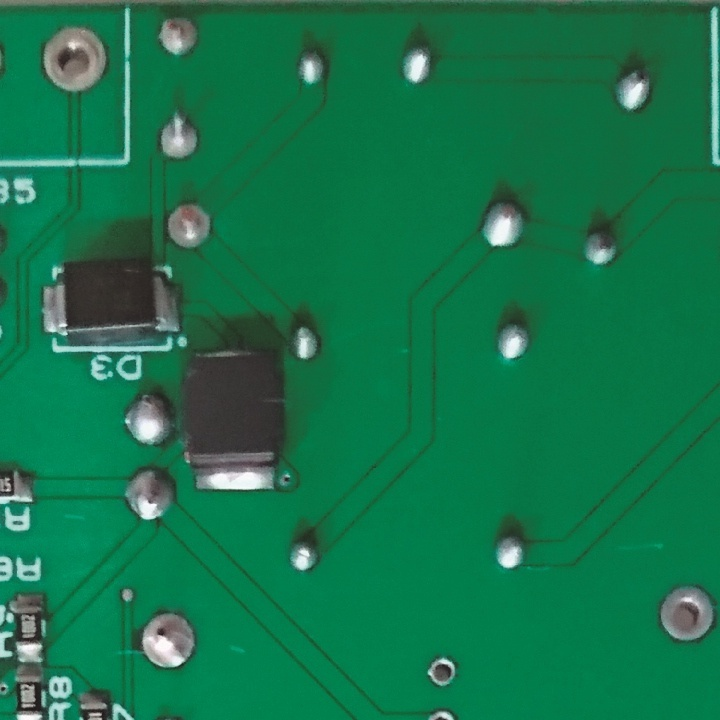F: (39, 22, 109, 105), (653, 581, 720, 646), (138, 606, 199, 676), (164, 201, 216, 253), (158, 108, 201, 165), (156, 14, 200, 61), (424, 653, 461, 690)
